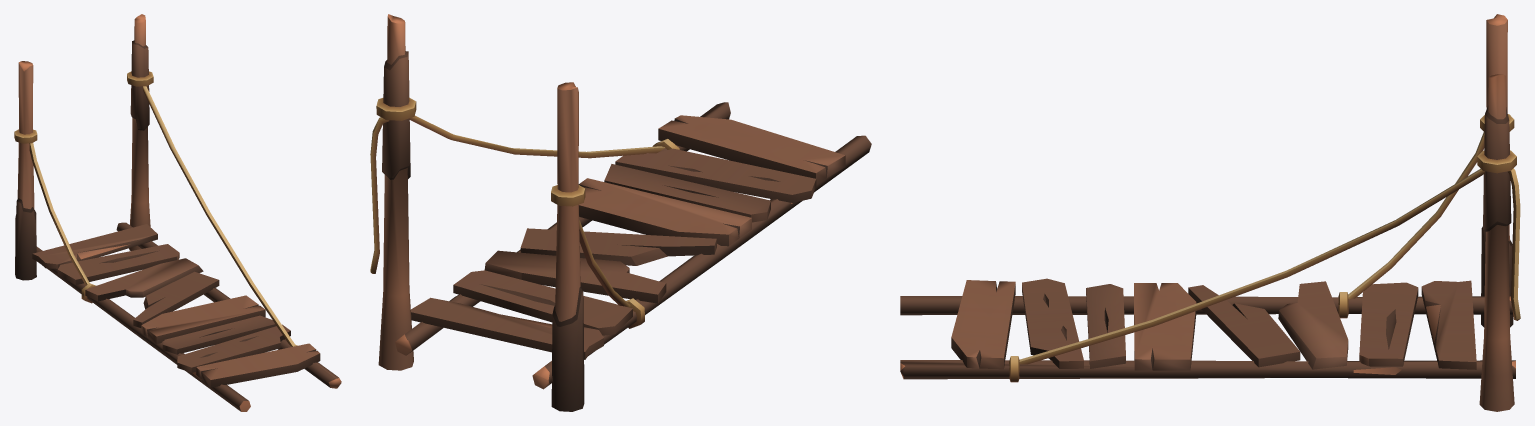
The model's file is Suspended_Bridge_2B.fbx.
3 renders of one model, left to right at view 1: azimuth 30°, elevation 25°; view 2: azimuth 150°, elevation 25°; view 3: azimuth 270°, elevation 25°, orthographic. The views are drawn at different scales.
Parts seen in each view (by area): view 1: Suspended_Bridge_2B; view 2: Suspended_Bridge_2B; view 3: Suspended_Bridge_2B.
Part boxes in pixels (<box>): Suspended_Bridge_2B: <box>14,14,341,411</box>; Suspended_Bridge_2B: <box>370,14,871,411</box>; Suspended_Bridge_2B: <box>900,14,1520,411</box>.
Size of the model in its own units: 239 by 387 by 655.
